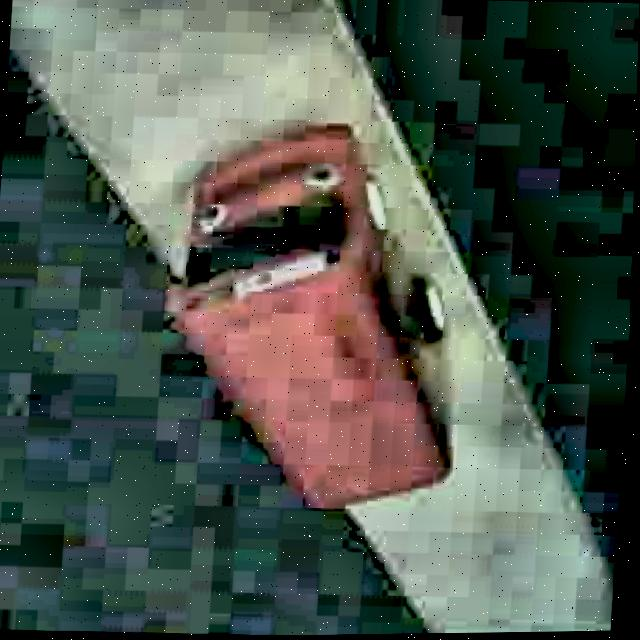bus: (152, 113, 474, 519)
